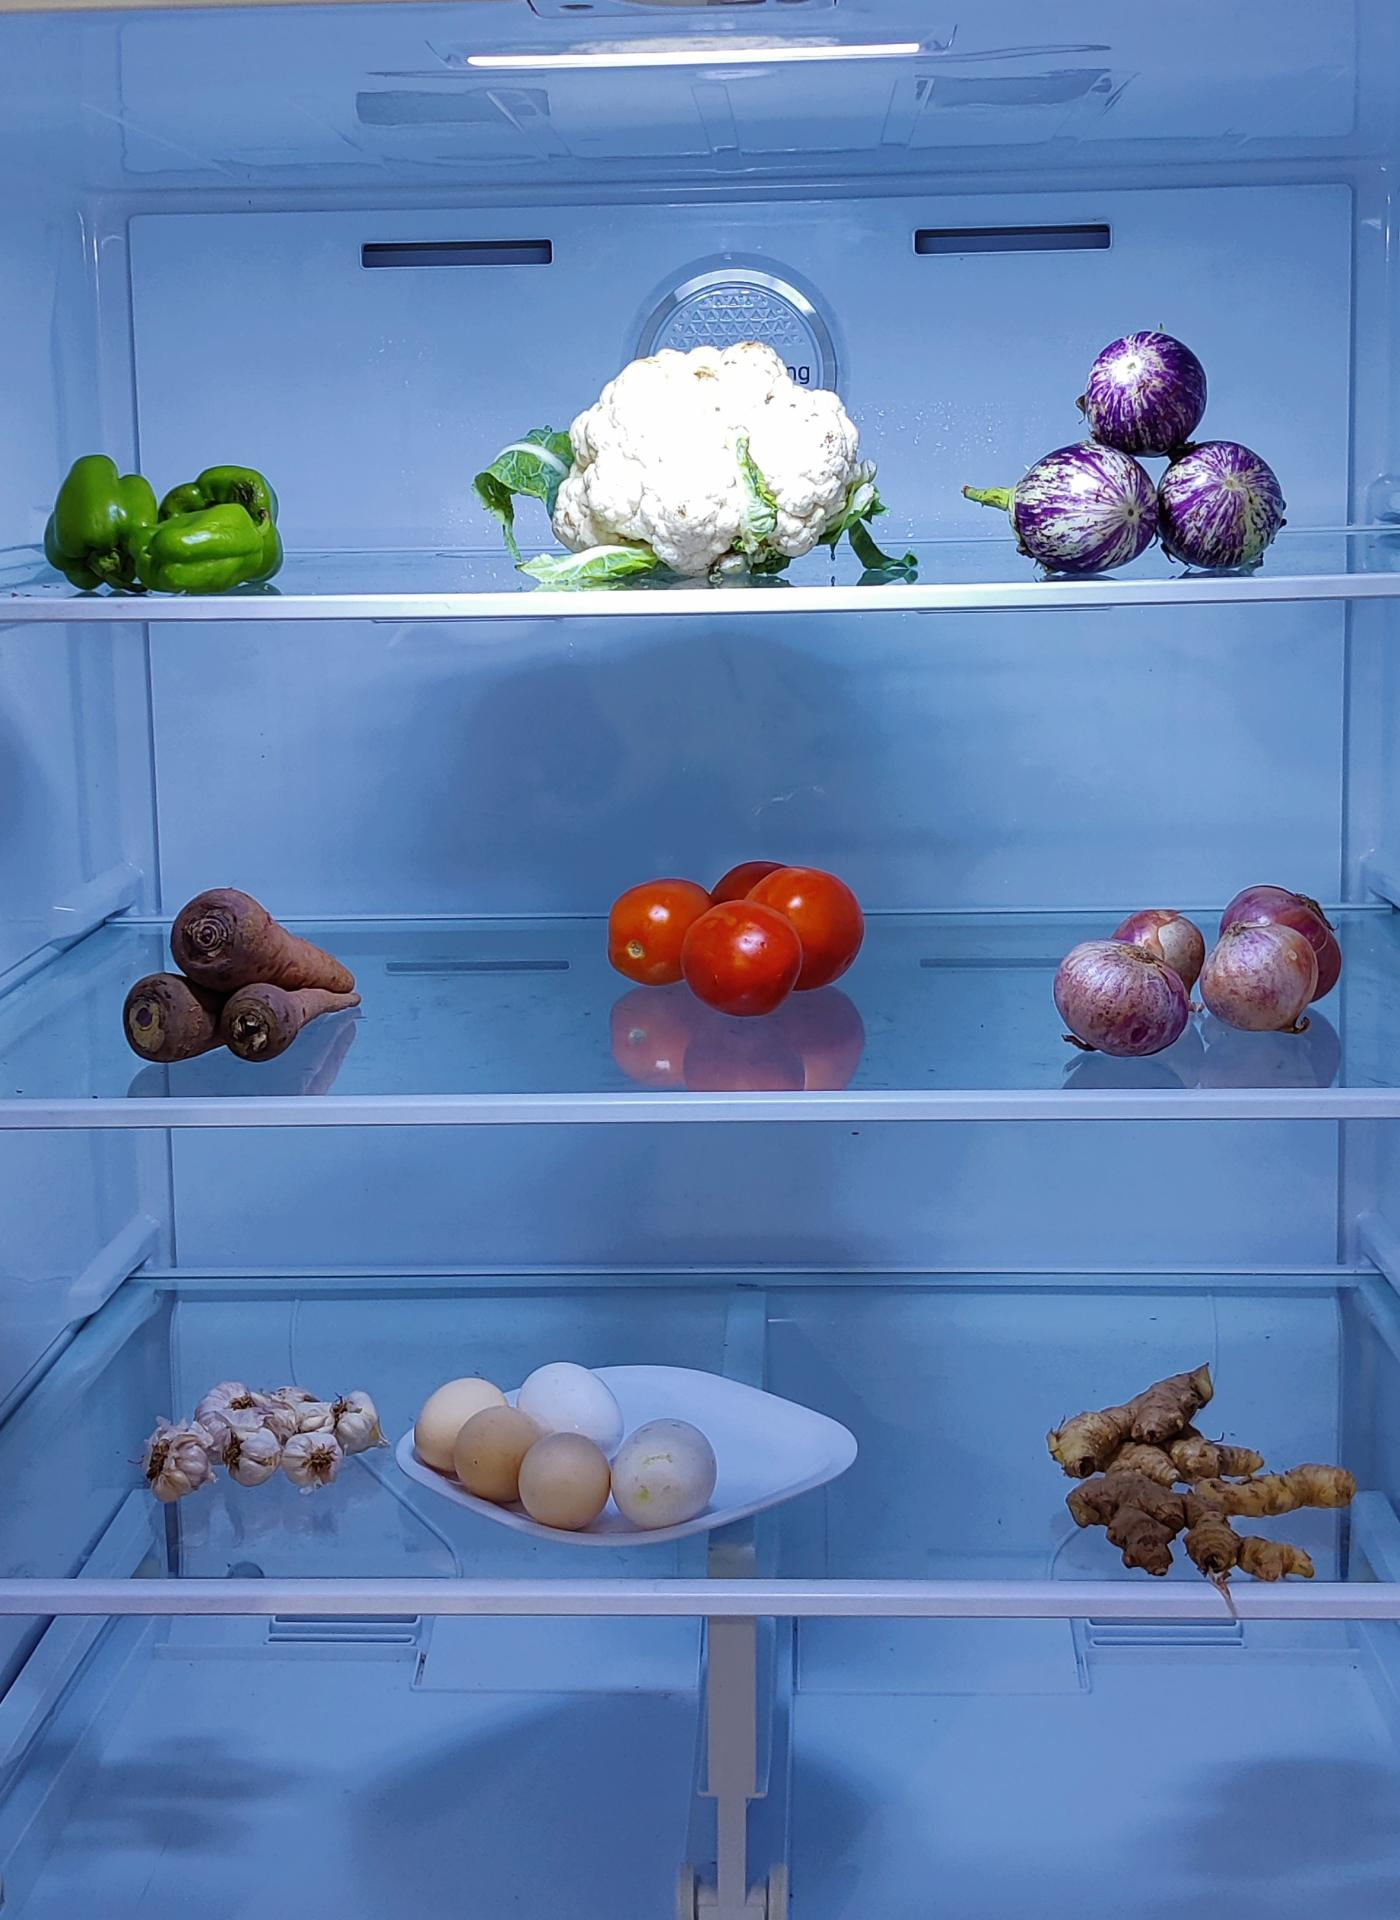brinjal: (999, 325, 1278, 550)
capsicum: (45, 446, 295, 596)
carrots: (116, 884, 359, 1072)
cauliflower: (559, 340, 874, 563)
egg: (414, 1345, 725, 1523)
garlic: (134, 1374, 388, 1491)
ginger: (1060, 1392, 1354, 1588)
onion: (1053, 888, 1346, 1064)
tomato: (611, 862, 874, 1018)
